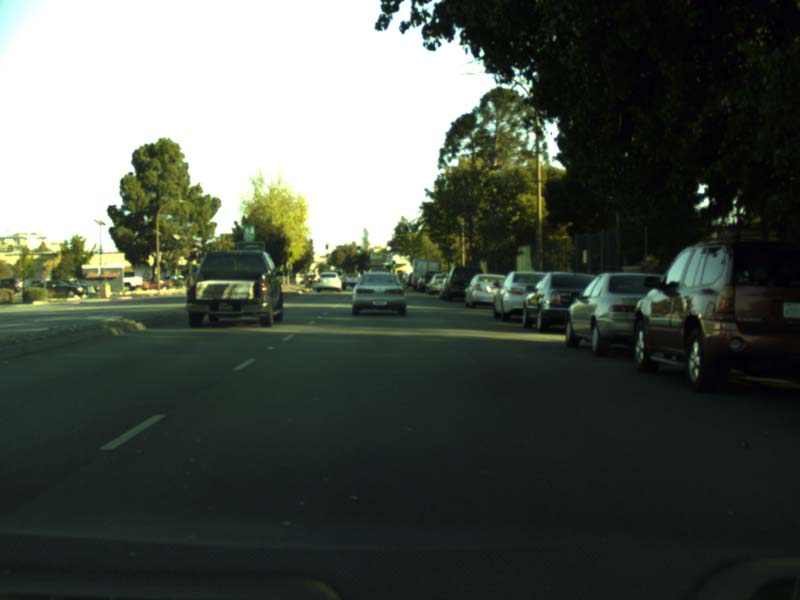Green: (357, 246, 360, 253)
